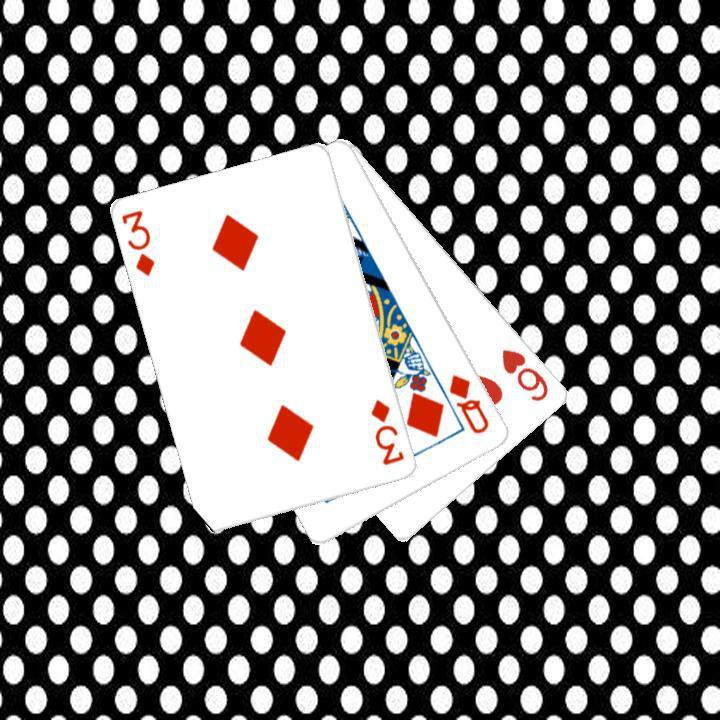3: (367, 395, 407, 468), (117, 206, 157, 279)
6: (497, 344, 551, 404)
Q: (445, 370, 492, 436)
